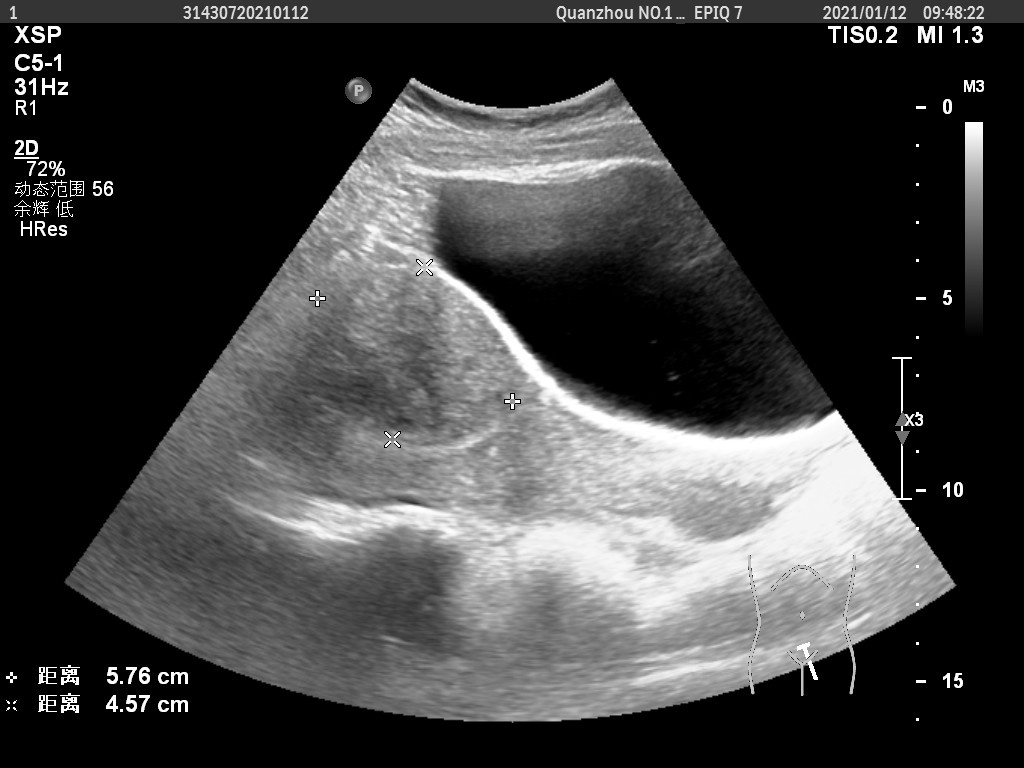肌瘤: (312, 261, 515, 449)
